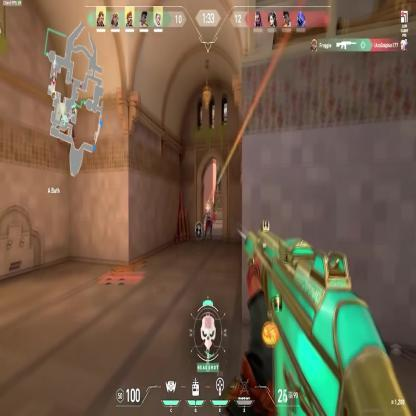enemy: (204, 204, 212, 238)
enemy_head: (206, 204, 210, 212)
